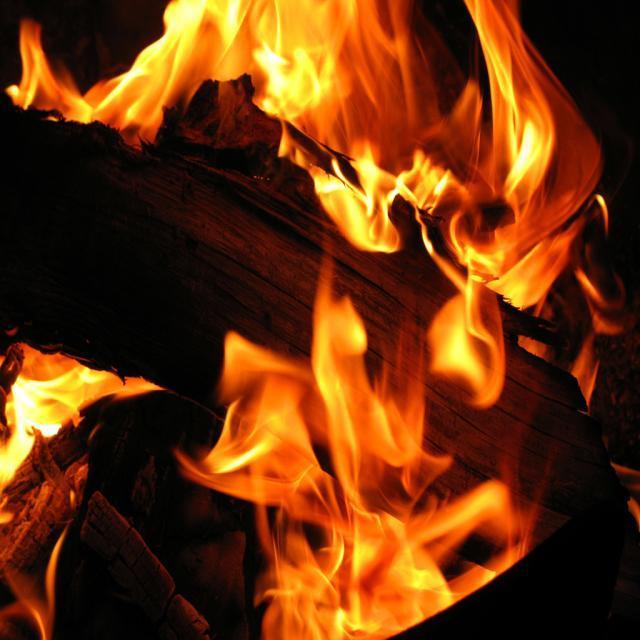Fire: (266, 362, 389, 620), (190, 0, 380, 70)
